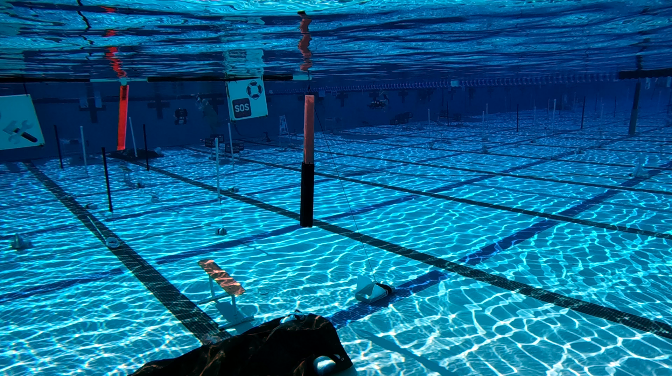pathmarker: (198, 258, 244, 296)
sandbag: (125, 313, 356, 375)
